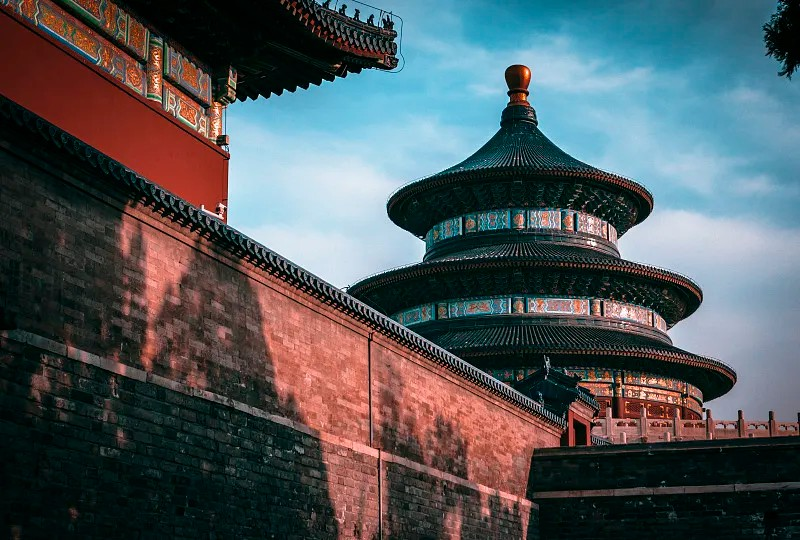Heaven: (347, 65, 738, 440)
